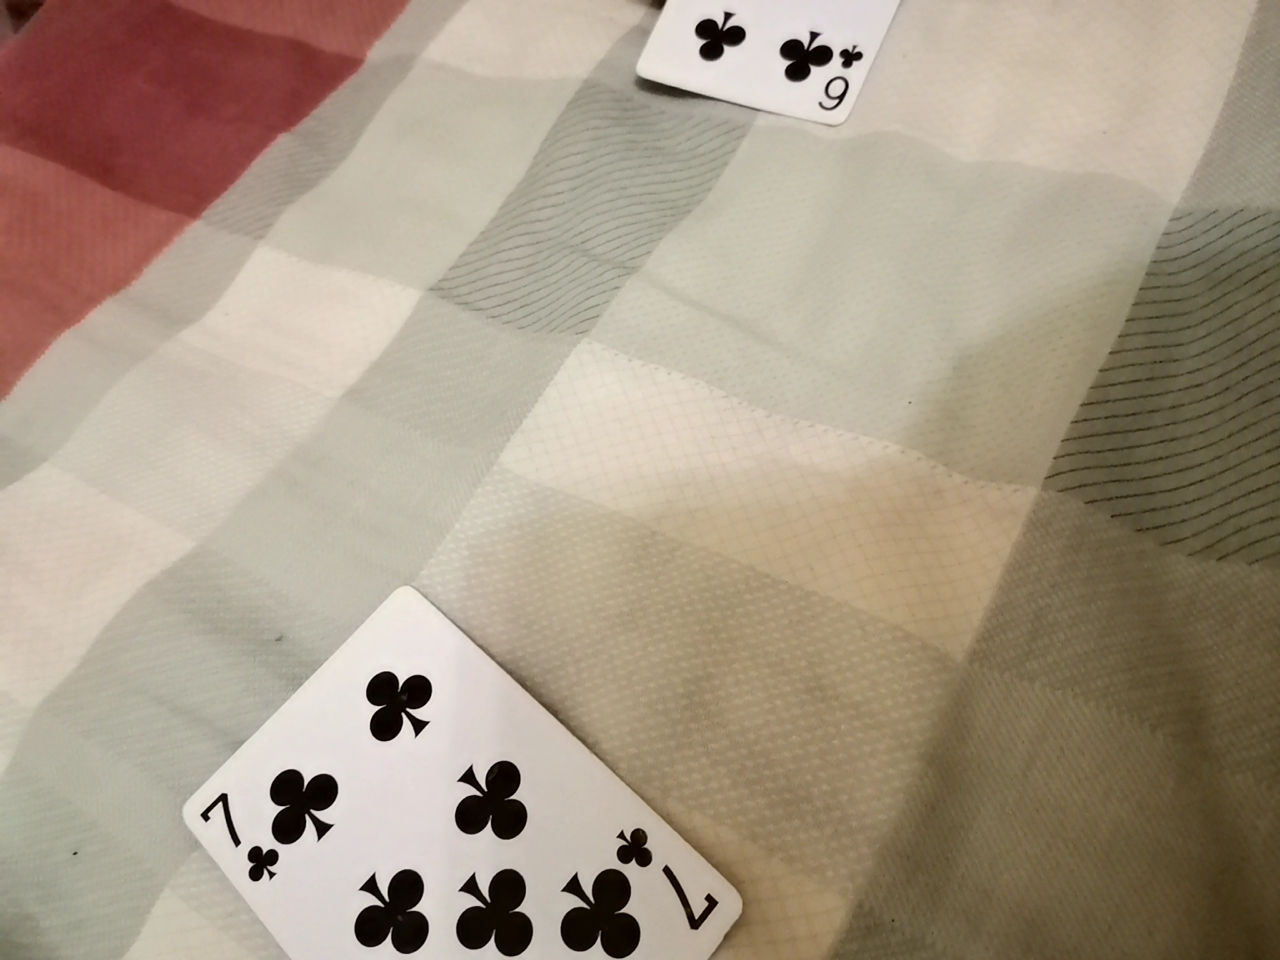mh 7: (162, 591, 760, 956)
